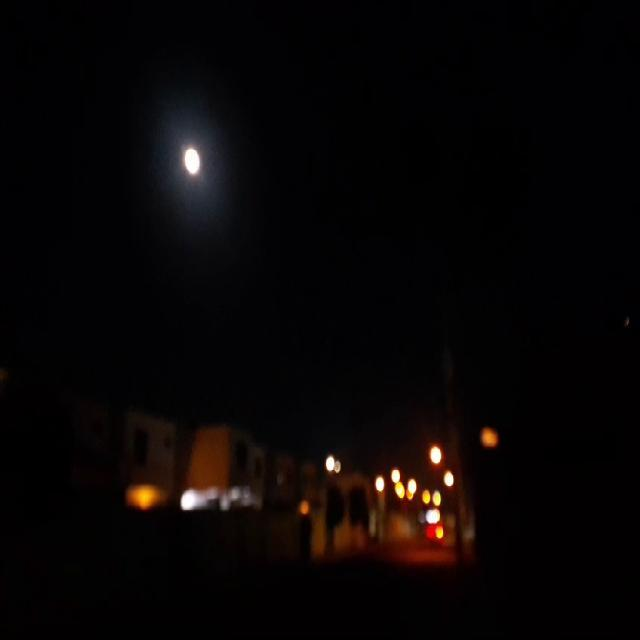moon: (182, 147, 202, 180)
